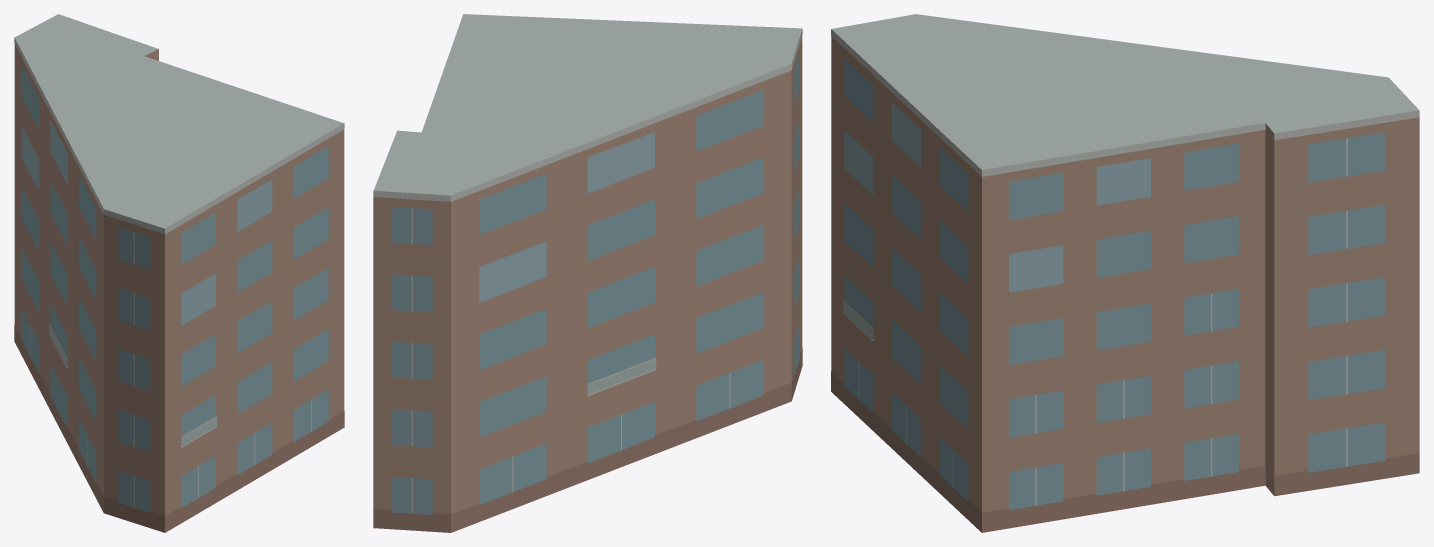
File: survey-upis-32995463.glb
3 renders of one model, left to right at view 1: azimuth 30°, elevation 25°; view 2: azimuth 150°, elevation 25°; view 3: azimuth 270°, elevation 25°, orthographic. The views are drawn at different scales.
Visible parts, largest first — view 1: survey-upis-32995463.tmp; view 2: survey-upis-32995463.tmp; view 3: survey-upis-32995463.tmp.
Part boxes in pixels (bbox=[...]): survey-upis-32995463.tmp: bbox=[14, 14, 344, 532]; survey-upis-32995463.tmp: bbox=[373, 14, 802, 532]; survey-upis-32995463.tmp: bbox=[831, 14, 1419, 532].
Size of the model in its own units: 12.01 by 13 by 19.13.
